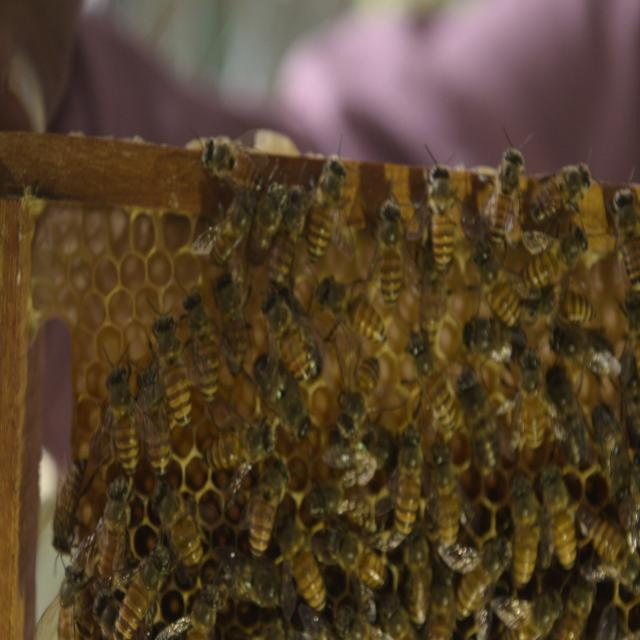honeybee: (450, 536, 512, 640), (538, 208, 610, 291), (210, 260, 262, 352), (207, 536, 276, 605), (544, 452, 581, 578), (458, 376, 509, 467), (90, 333, 139, 425), (434, 439, 474, 550), (151, 467, 198, 559), (130, 386, 179, 474), (150, 324, 199, 412), (603, 183, 640, 298), (425, 145, 464, 254), (415, 357, 465, 440), (213, 397, 278, 460), (503, 457, 535, 581), (116, 556, 170, 626), (318, 517, 383, 573), (322, 263, 377, 329), (395, 435, 439, 517), (547, 306, 595, 381), (200, 120, 255, 185), (276, 510, 321, 589), (97, 456, 131, 560), (184, 277, 219, 378), (20, 460, 78, 520), (462, 298, 505, 378), (532, 157, 587, 219), (505, 572, 555, 640), (269, 288, 313, 362), (556, 563, 597, 640), (583, 492, 618, 580), (339, 595, 405, 640), (237, 459, 280, 528), (550, 383, 583, 472), (168, 592, 232, 637), (600, 418, 633, 505), (413, 251, 451, 325), (599, 568, 636, 640), (365, 212, 404, 280), (512, 355, 544, 435), (265, 337, 298, 413), (337, 382, 367, 462), (483, 256, 512, 334), (404, 527, 432, 606), (278, 191, 301, 284), (353, 332, 384, 401), (215, 192, 248, 256), (615, 330, 640, 412), (310, 160, 336, 234), (492, 146, 508, 255), (402, 315, 426, 376), (431, 575, 453, 640), (254, 171, 273, 237)
